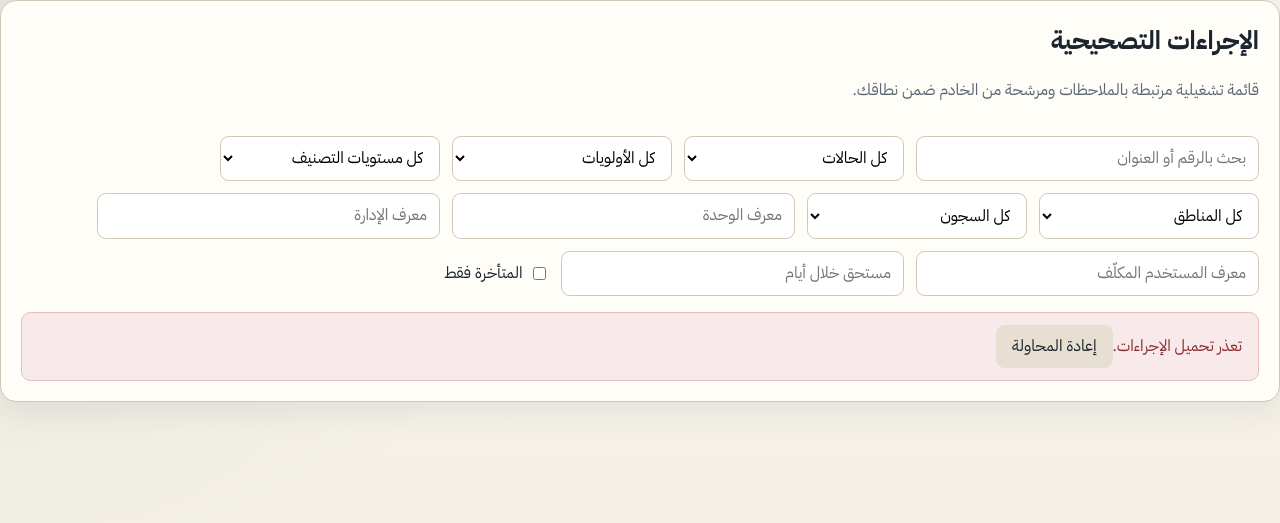
CorrectiveActionsListPage › shows an API failure and retries
Expected: the message shows "تعذر تحميل الإجراءات.", [1112,334,1242,358]
Click the button "إعادة المحاولة": (1054, 346) [996,325,1112,368]
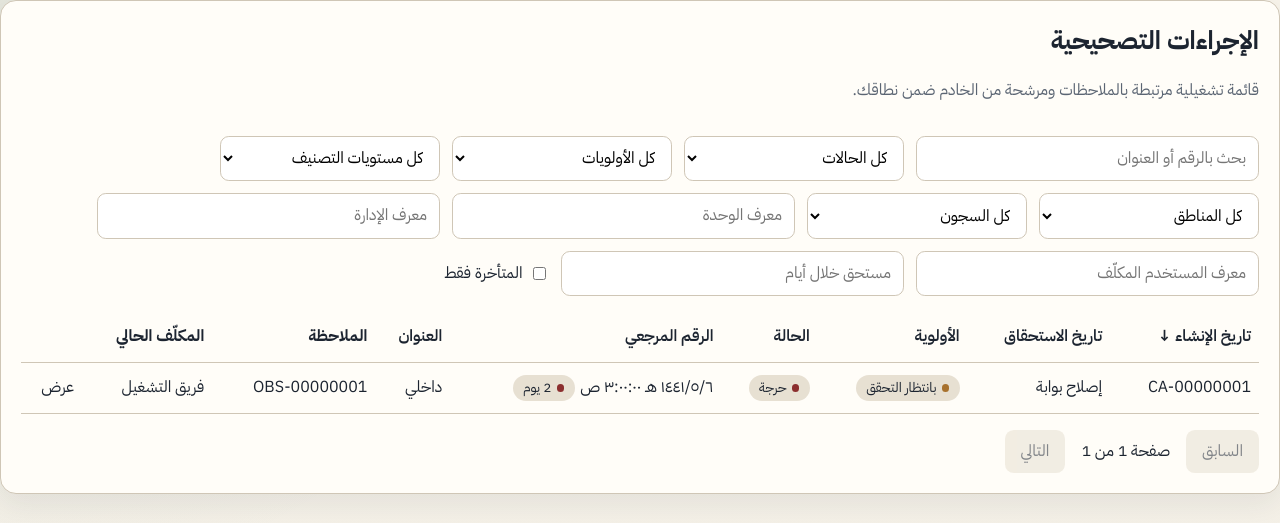
Now the text "إصلاح بوابة" is shown, box [968,362,1110,414]
